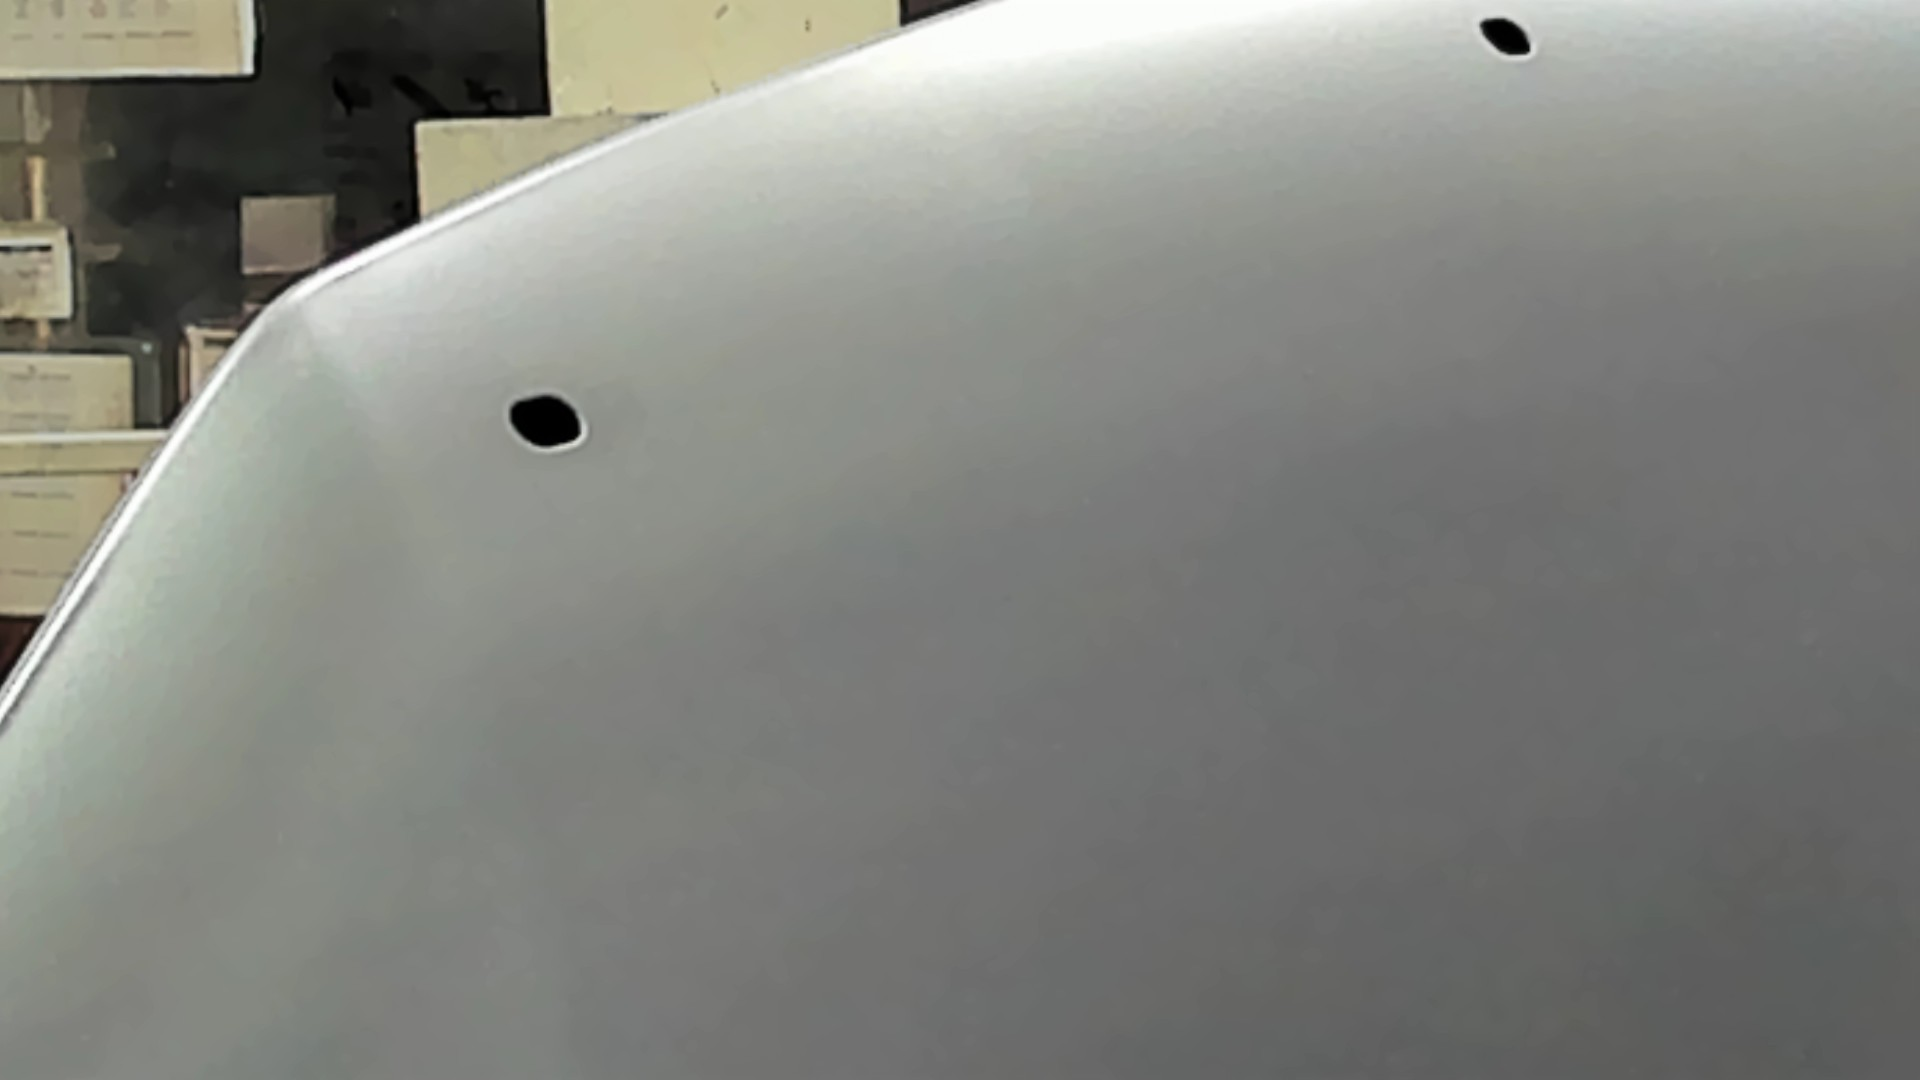amorfo: (506, 392, 589, 454), (1476, 15, 1538, 63)
